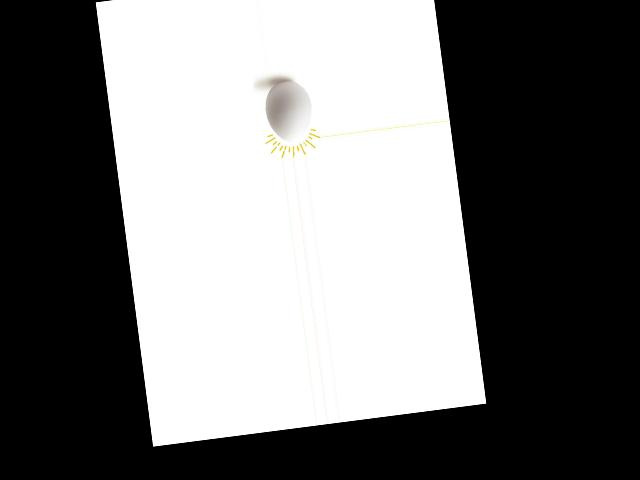egg: (262, 78, 316, 143)
